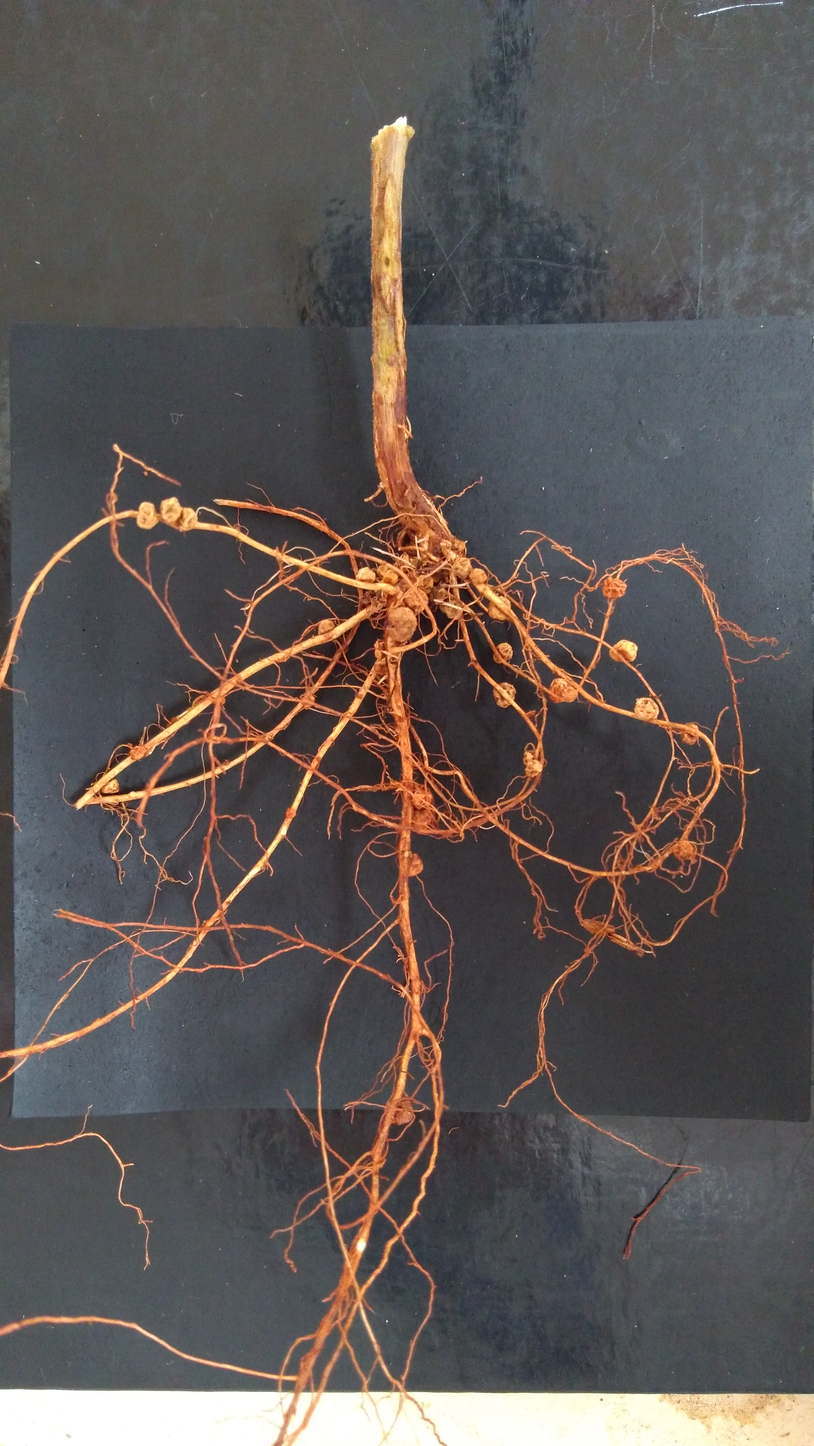nodule: (386, 607, 418, 643), (548, 676, 579, 704), (608, 638, 640, 662), (411, 781, 435, 811), (422, 562, 453, 585), (135, 501, 159, 530), (404, 586, 428, 614), (392, 1097, 414, 1127), (158, 496, 182, 523), (487, 595, 511, 622), (411, 805, 433, 834), (492, 682, 516, 708), (601, 575, 627, 599), (634, 697, 660, 721), (671, 840, 698, 863), (179, 506, 201, 532), (450, 557, 472, 581), (439, 599, 463, 620), (406, 852, 425, 877), (681, 721, 700, 746), (493, 643, 513, 665), (428, 586, 450, 605), (524, 759, 543, 778), (374, 657, 391, 677), (355, 566, 375, 583), (416, 573, 433, 593), (469, 568, 489, 584), (318, 618, 336, 635), (100, 778, 119, 794), (374, 638, 387, 661), (300, 694, 316, 711), (453, 538, 468, 556), (129, 745, 146, 760), (384, 568, 399, 585), (521, 750, 535, 764), (409, 555, 423, 569), (285, 807, 297, 820), (376, 564, 387, 577), (218, 696, 227, 706)
